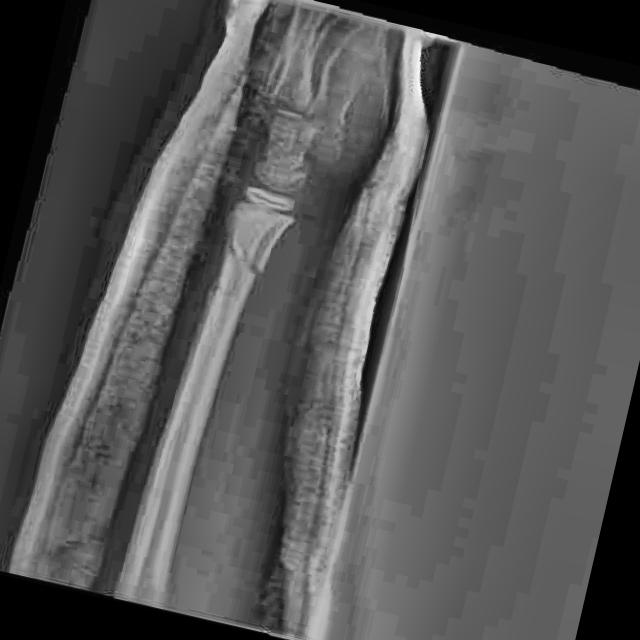wrist positive: (200, 212, 285, 311)
